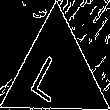L_NE: (32, 43, 79, 102)
